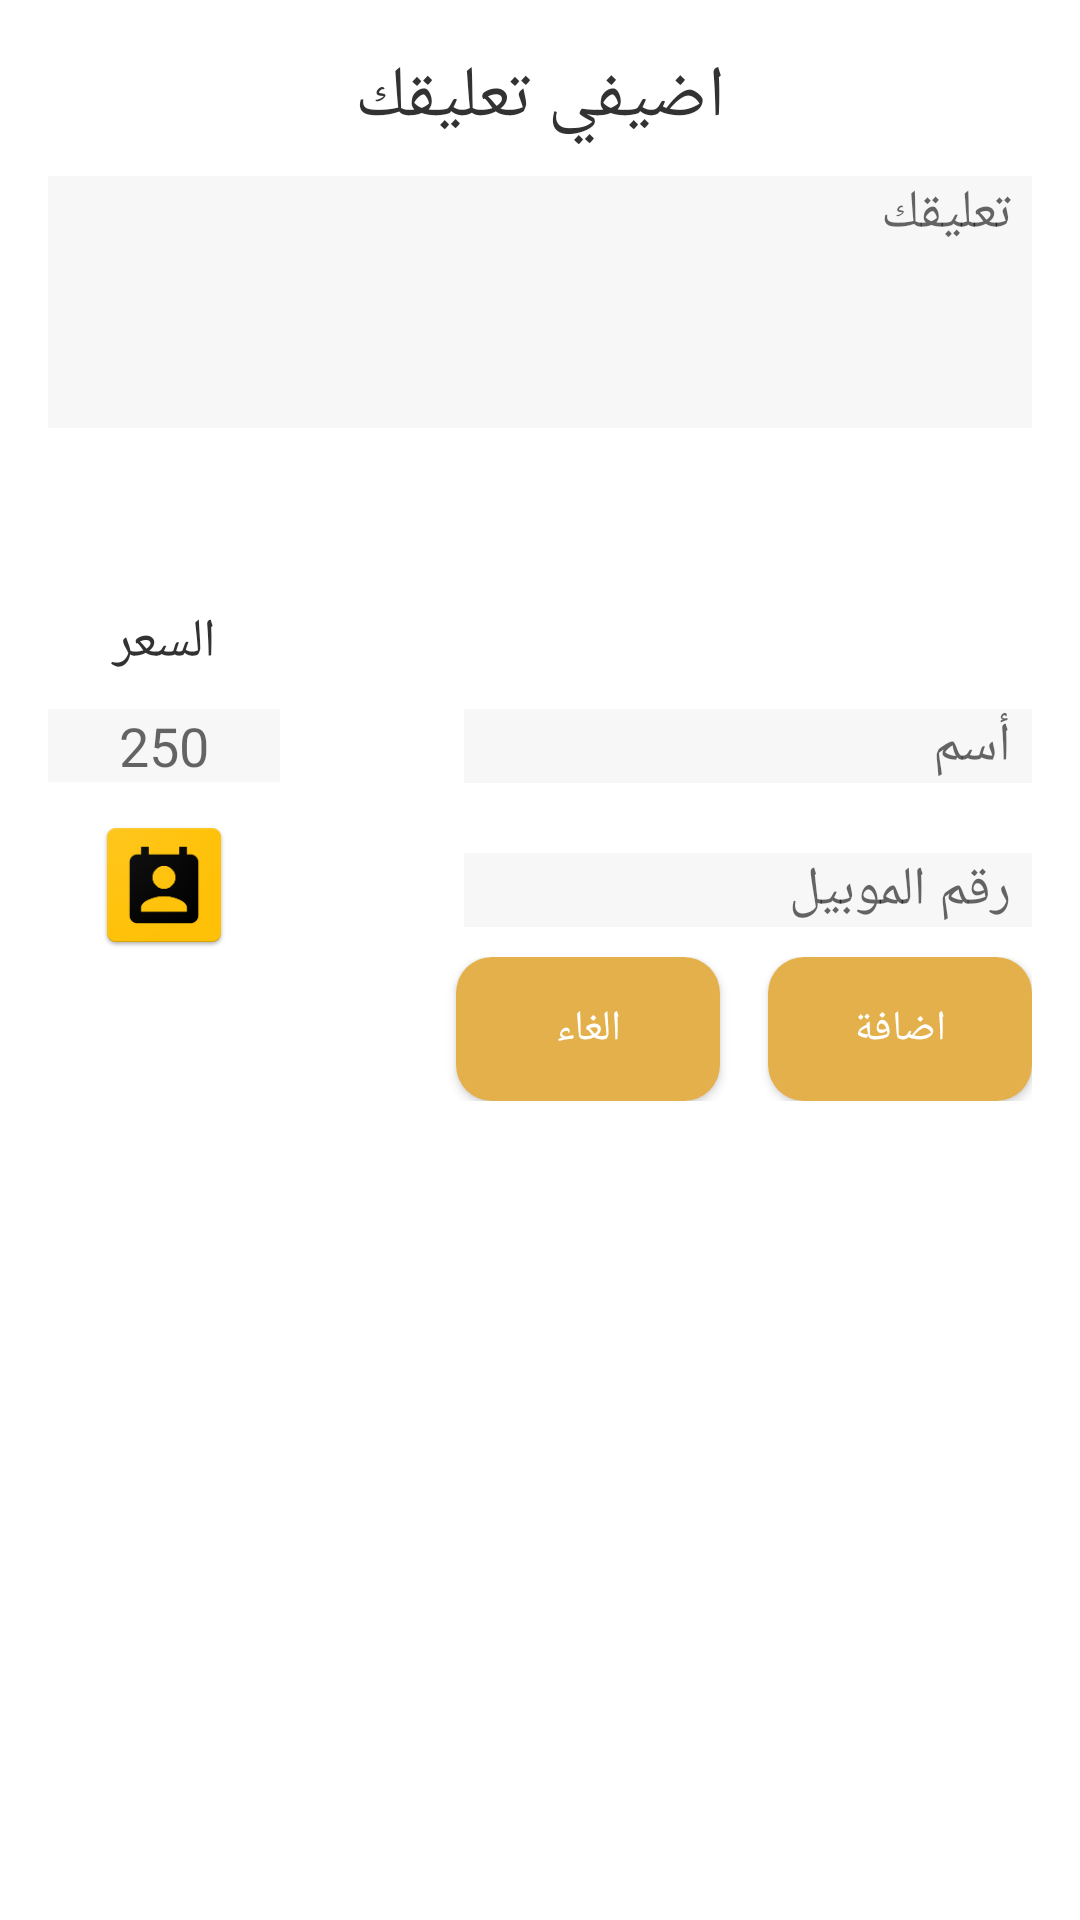

Point at icon controls on the screen. Image size 1080 × 1920, points as (x,y).
contact: (164,886)
